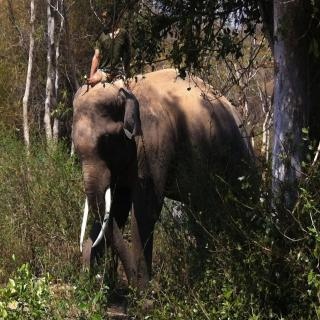Elephant: (66, 59, 286, 316)
